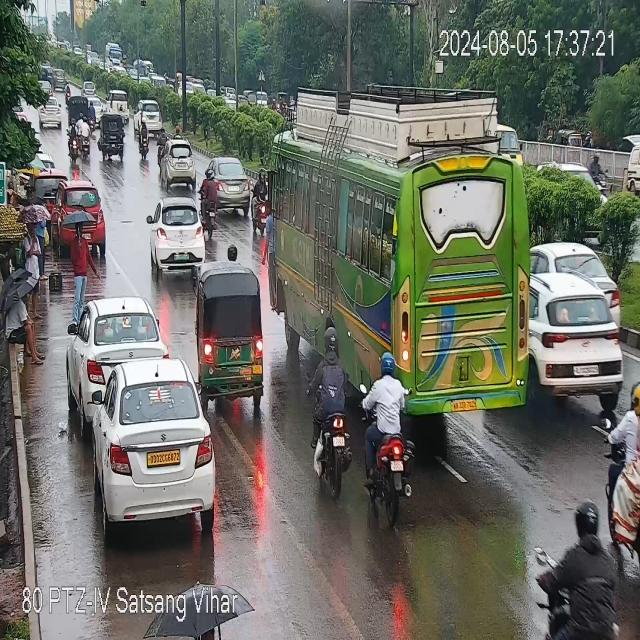2-wheelers: (545, 490, 624, 640), (362, 356, 416, 494), (603, 368, 640, 564), (307, 331, 351, 492), (251, 174, 275, 234), (201, 173, 223, 229), (68, 113, 92, 162), (138, 121, 149, 158), (159, 125, 167, 168), (65, 79, 71, 103), (174, 125, 182, 139)
auto: (196, 264, 266, 408), (97, 112, 129, 162), (67, 94, 89, 132)
bus: (272, 75, 543, 415)
car: (78, 361, 224, 528), (530, 288, 627, 403), (72, 298, 163, 400), (550, 232, 622, 312), (150, 201, 214, 266), (57, 183, 106, 246), (207, 155, 252, 208), (162, 140, 201, 183), (36, 164, 68, 197), (137, 104, 167, 134), (107, 88, 131, 120), (39, 94, 60, 128), (95, 100, 102, 126), (84, 80, 97, 94)
pedestrian: (5, 289, 44, 363), (73, 215, 89, 316), (23, 214, 43, 283), (34, 206, 49, 278)
